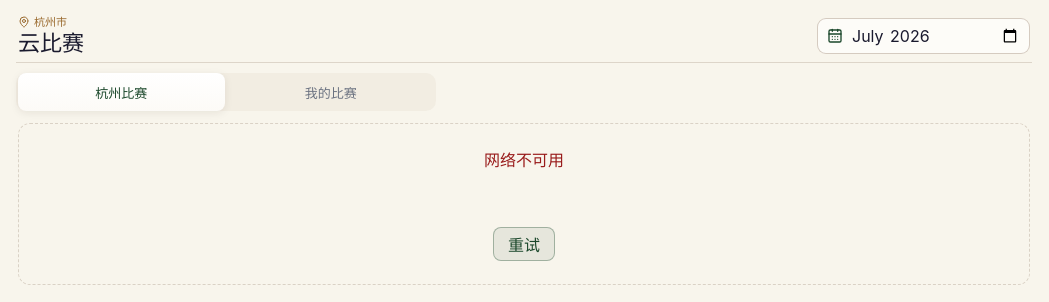
it: CloudEventsPage › shows empty and retryable error states
Expected: the message shows "网络不可用", [484,150,564,170]
Click the button "重试". click: (524, 244)
box: [493,227,555,261]
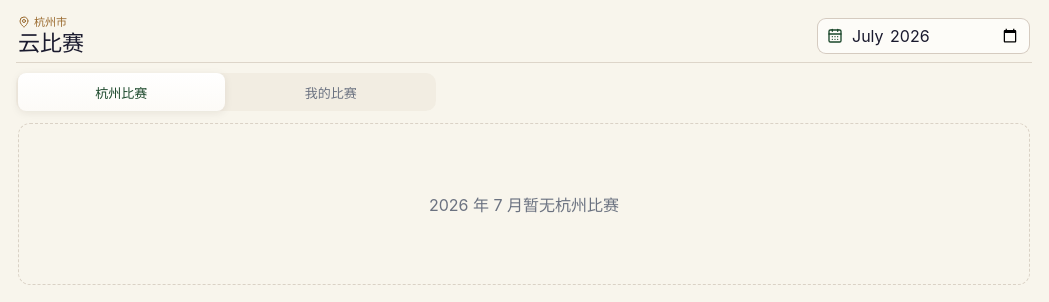
Expected: the text "2026 年 7 月暂无杭州比赛" is shown, [18,123,1030,285]
